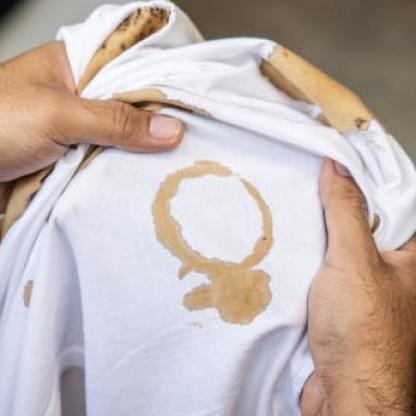coffee: (200, 261, 272, 323), (153, 180, 176, 243), (249, 229, 274, 262), (179, 246, 198, 271), (176, 166, 220, 176)
